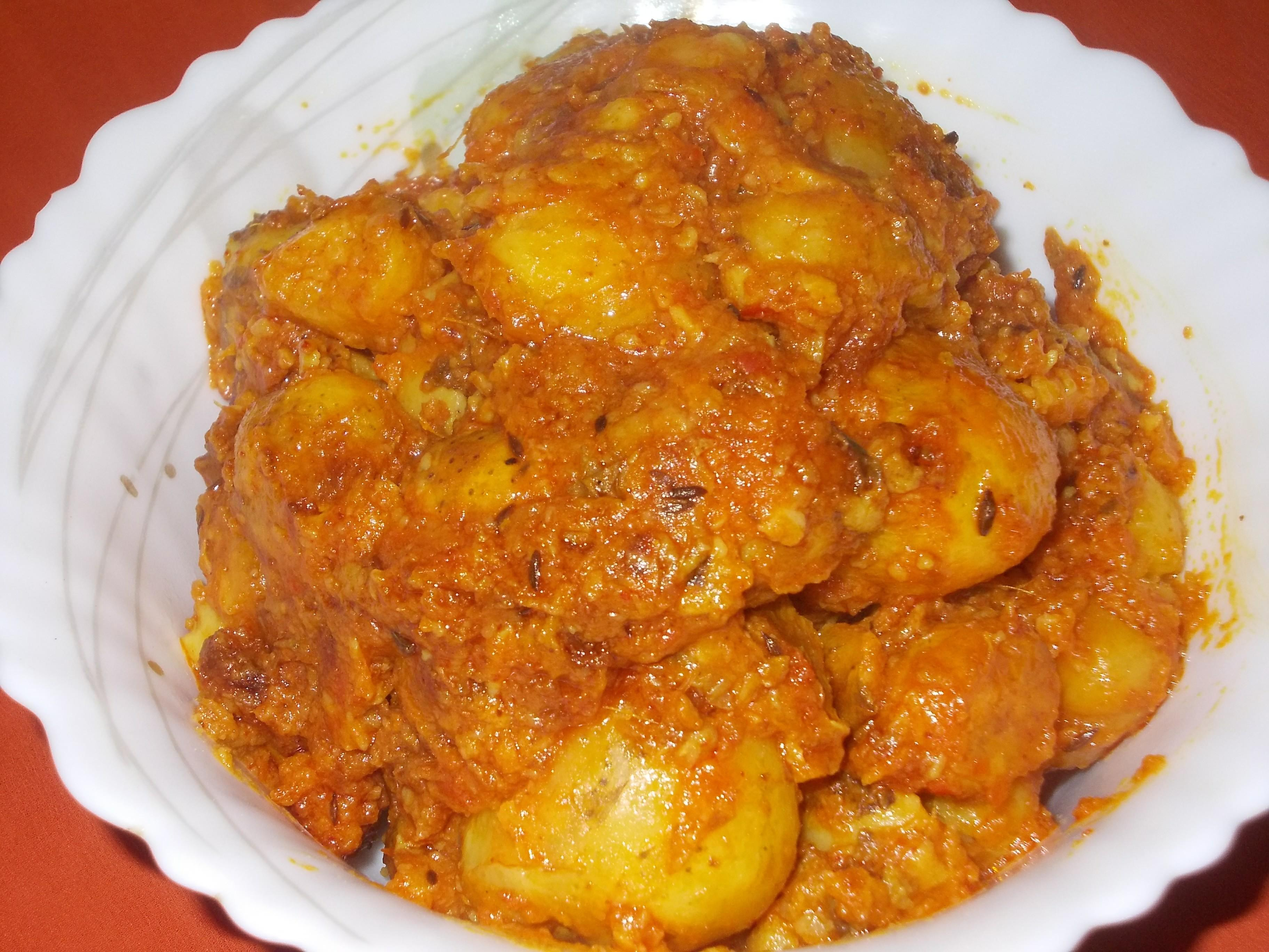DumAloo: (185, 19, 1194, 952)
